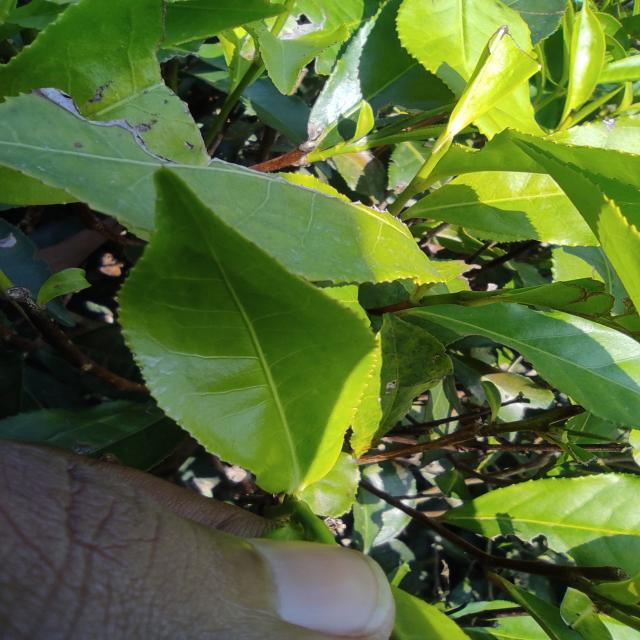Category C 4-7 days: (94, 146, 388, 514)
